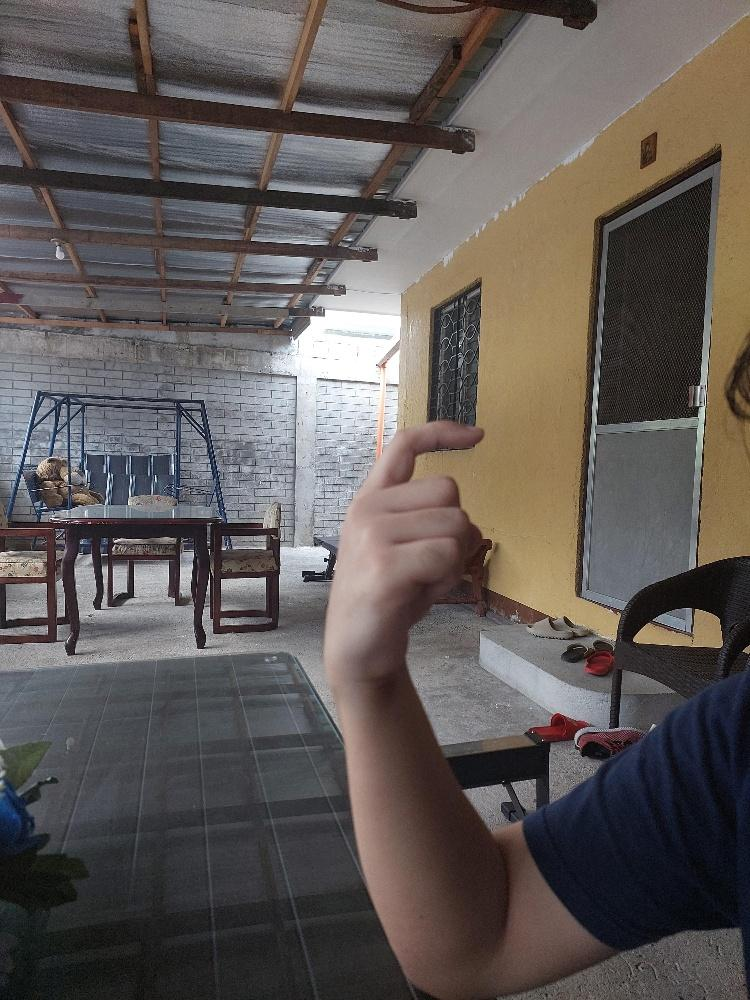x: (320, 414, 487, 682)
